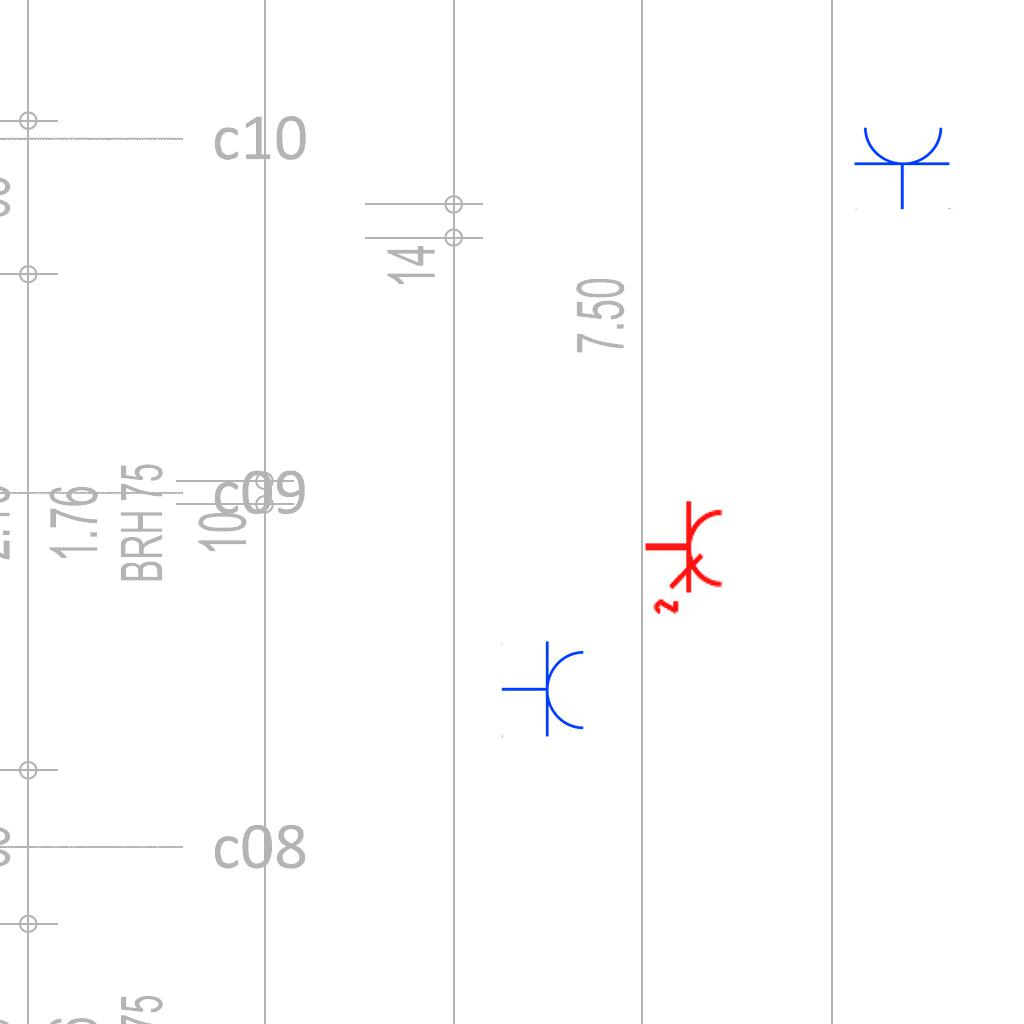Schukosteckdose_einfach: (501, 640, 588, 740), (853, 123, 953, 210)
Schukosteckdose_mehrfach: (639, 496, 727, 617)
